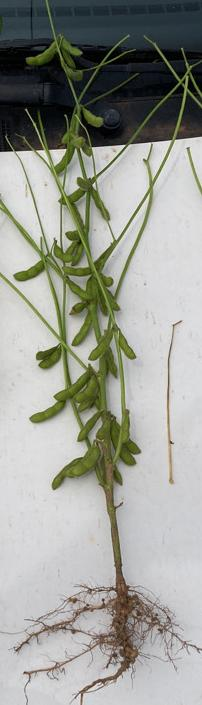soja: (23, 31, 61, 68), (11, 250, 49, 285), (52, 367, 91, 401), (107, 422, 136, 467), (113, 322, 142, 363), (50, 455, 81, 493), (28, 397, 68, 424), (58, 105, 82, 145), (104, 449, 126, 490), (89, 327, 115, 360), (88, 187, 112, 222), (73, 447, 100, 478), (52, 144, 75, 180), (65, 278, 94, 303), (73, 311, 92, 347), (102, 288, 128, 314), (53, 188, 89, 206), (79, 105, 105, 129), (80, 414, 102, 442), (37, 345, 60, 371), (80, 374, 100, 403), (60, 63, 88, 83), (57, 46, 80, 70), (64, 34, 84, 61), (35, 340, 59, 361), (120, 409, 133, 445), (53, 244, 72, 266), (75, 173, 95, 192), (76, 136, 94, 157), (98, 269, 119, 287), (63, 228, 86, 244), (105, 352, 118, 378), (72, 242, 84, 270), (68, 302, 86, 318)
